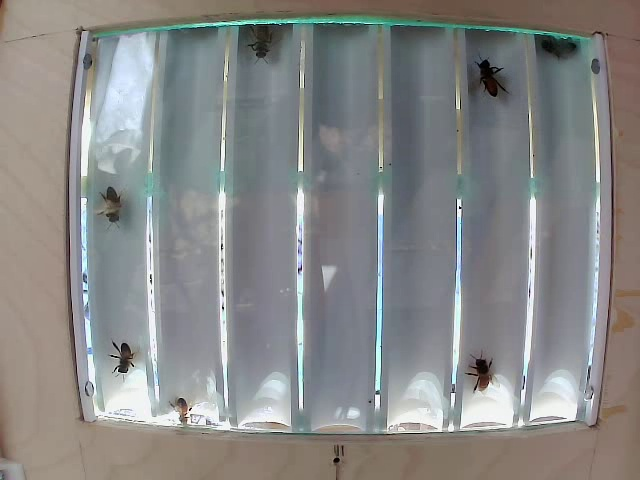bee: (464, 340, 513, 407), (92, 185, 139, 236), (244, 20, 289, 70), (472, 54, 513, 107), (537, 27, 579, 62), (114, 340, 146, 376)
